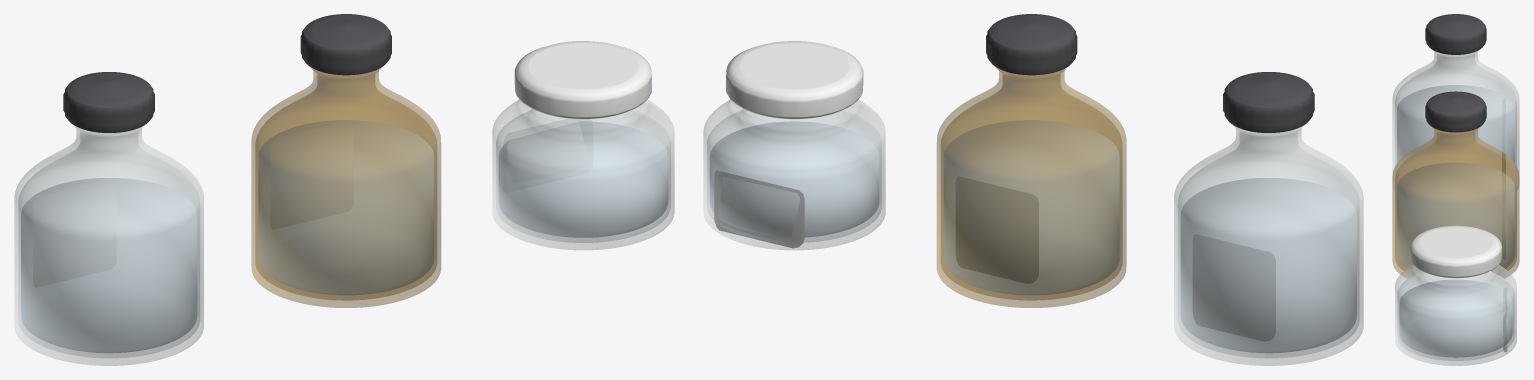
File: ReagentContainers.glb
3 views of the same model, side by side, from view 1: azimuth 30°, elevation 25°; view 2: azimuth 150°, elevation 25°; view 3: azimuth 270°, elevation 25° (orthographic). The views are drawn at different scales.
Visible parts, largest first — view 1: Bottle_Glass, Bottle_Glass.001, ContentsVolume, ContentsVolume.001, Jar_Glass, ContentsVolume.002, Cap.002, LabelSurface.001, LabelSurface, Cap.001, Cap, LabelSurface.002; view 2: Bottle_Glass, Bottle_Glass.001, ContentsVolume, ContentsVolume.001, Jar_Glass, ContentsVolume.002, Cap.002, LabelSurface, LabelSurface.001, LabelSurface.002, Cap.001, Cap; view 3: Bottle_Glass.001, Jar_Glass, Bottle_Glass, ContentsVolume.001, ContentsVolume.002, Cap.002, ContentsVolume, Cap.001, Cap, LabelSurface.001, LabelSurface, LabelSurface.002.
Boxes of the visible parts, x1,y1,x2,y2 form: Bottle_Glass: (14, 125, 203, 365); Bottle_Glass.001: (251, 67, 440, 307); ContentsVolume: (21, 178, 196, 352); ContentsVolume.001: (258, 120, 433, 294); Jar_Glass: (492, 99, 674, 249); ContentsVolume.002: (499, 121, 667, 237); Cap.002: (514, 41, 651, 119); LabelSurface.001: (270, 122, 353, 229); LabelSurface: (33, 180, 116, 287); Cap.001: (300, 14, 391, 75); Cap: (63, 72, 154, 132); LabelSurface.002: (503, 118, 591, 182); Bottle_Glass: (1174, 125, 1363, 365); Bottle_Glass.001: (937, 67, 1126, 307); ContentsVolume: (1181, 178, 1356, 352); ContentsVolume.001: (944, 120, 1119, 294); Jar_Glass: (703, 99, 885, 249); ContentsVolume.002: (710, 121, 878, 237); Cap.002: (726, 41, 863, 119); LabelSurface: (1193, 234, 1275, 341); LabelSurface.001: (956, 176, 1038, 283); LabelSurface.002: (714, 170, 804, 248); Cap.001: (986, 14, 1077, 75); Cap: (1223, 72, 1314, 132); Bottle_Glass.001: (1392, 128, 1519, 278); Jar_Glass: (1395, 265, 1516, 365); Bottle_Glass: (1392, 50, 1519, 190); ContentsVolume.001: (1397, 162, 1514, 268); ContentsVolume.002: (1399, 280, 1512, 357); Cap.002: (1409, 225, 1502, 278); ContentsVolume: (1397, 85, 1514, 162); Cap.001: (1425, 91, 1486, 132); Cap: (1425, 14, 1486, 54); LabelSurface.001: (1502, 176, 1505, 259); LabelSurface: (1502, 99, 1505, 173); LabelSurface.002: (1503, 287, 1507, 352).
Bounding box in the file's own units: 0.402 × 0.1555 × 0.104.
